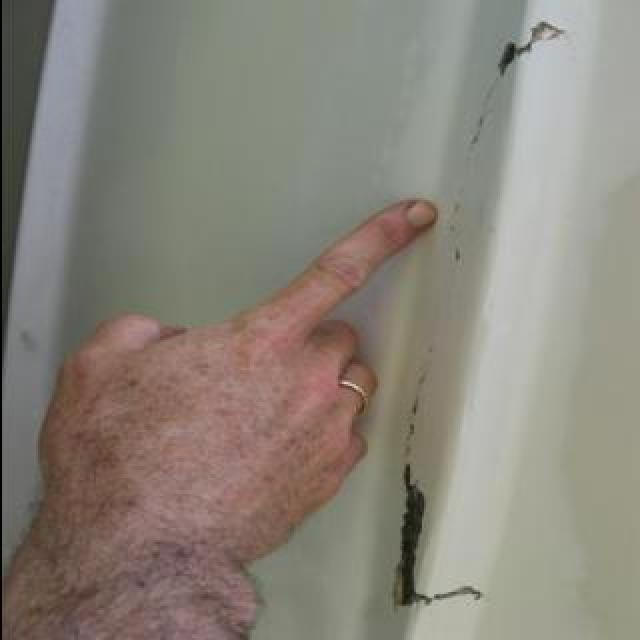crack: (444, 19, 564, 321), (389, 463, 485, 609), (401, 298, 439, 462)
